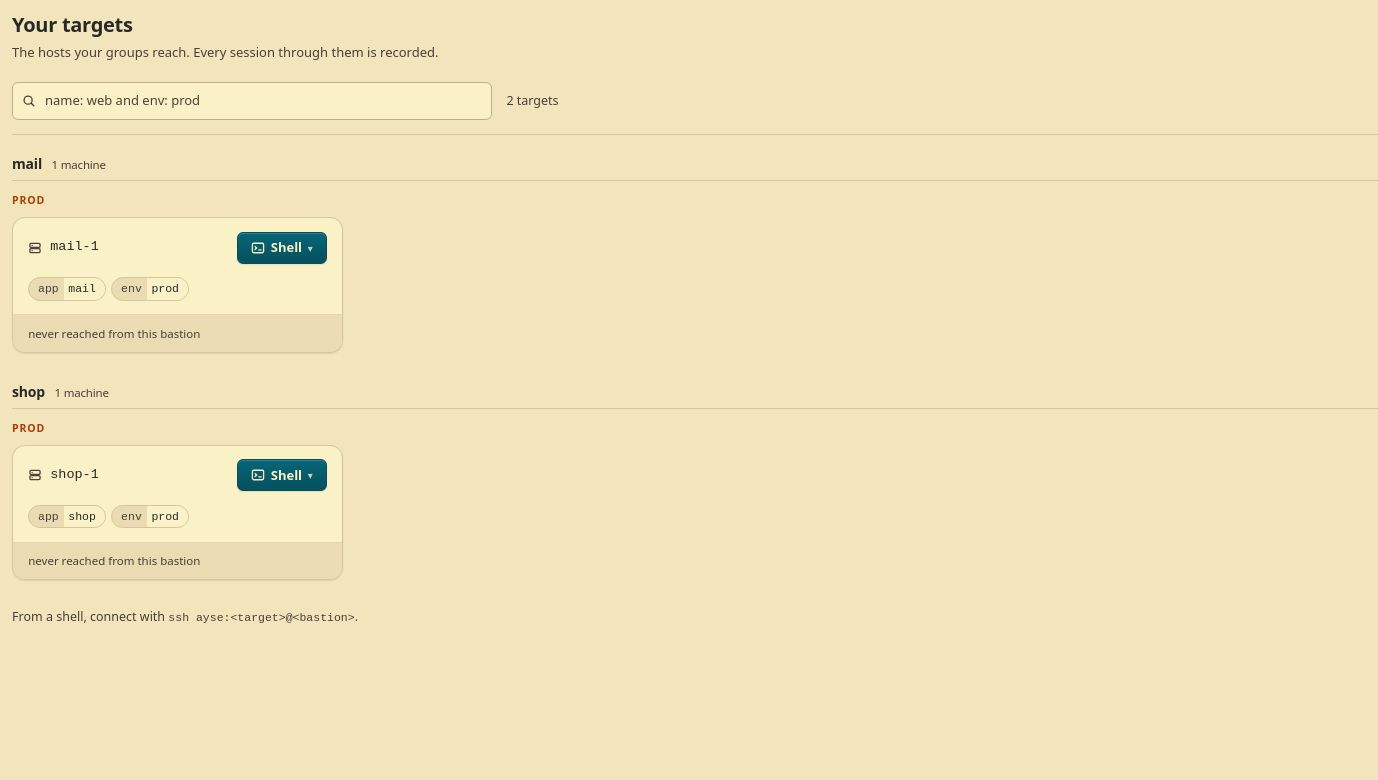
arama boşalttığı öbeği de kaldırıyor
This screenshot has width=1378, height=780.
Expected: the link "shop-1" is shown, [28,465,99,486]
Step 1. Type "shop" into the search field → (252,101), box [12,82,492,120]
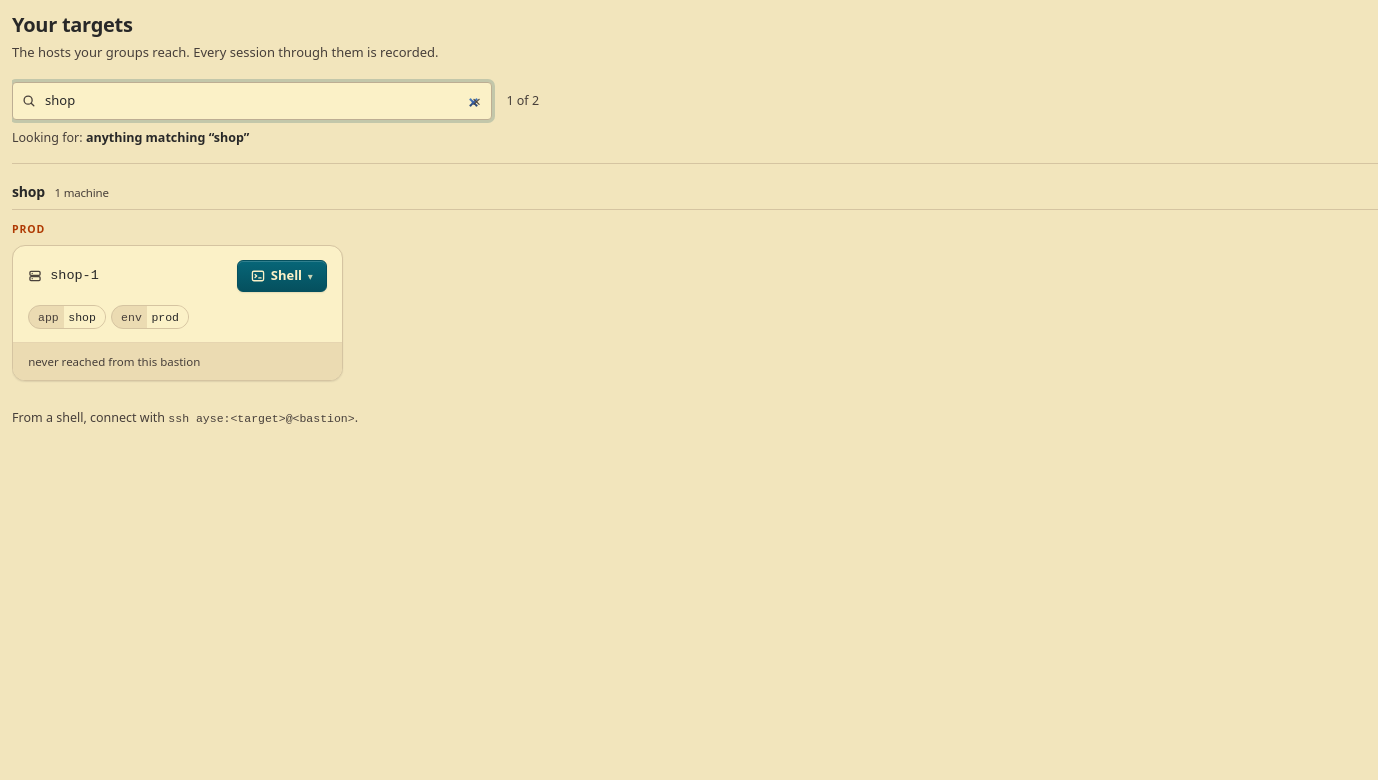
Now the link "mail-1" is gone
